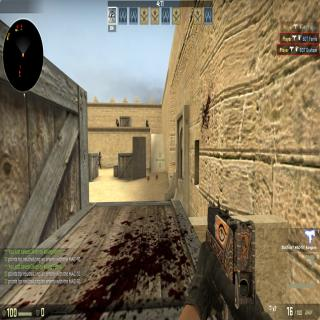CT-Body: (115, 118, 119, 127), (145, 119, 149, 127)
CT-Head: (116, 118, 118, 122), (146, 119, 148, 122)
T-Body: (98, 151, 101, 170)
T-Head: (98, 151, 100, 155)
